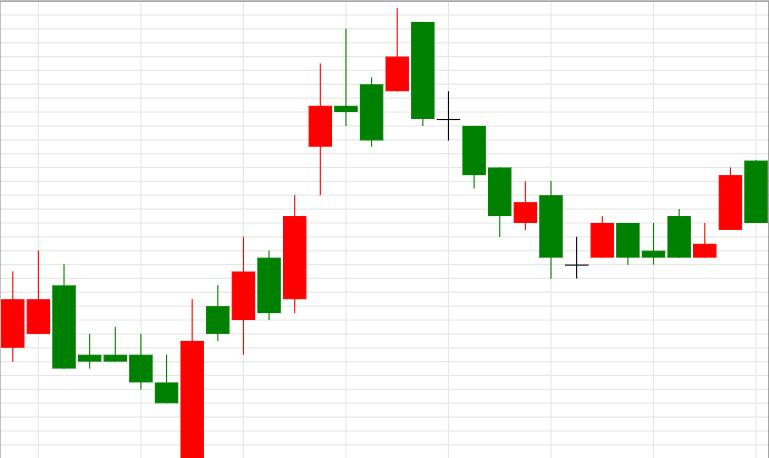bullish_engulfing_rise: (53, 264, 204, 458)
morning_star_rise: (411, 22, 614, 278)
